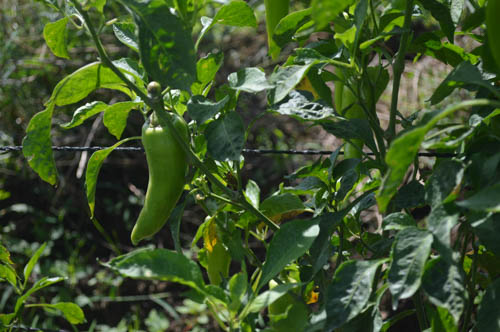ChiliPepper: (129, 118, 189, 250), (336, 76, 370, 174)
